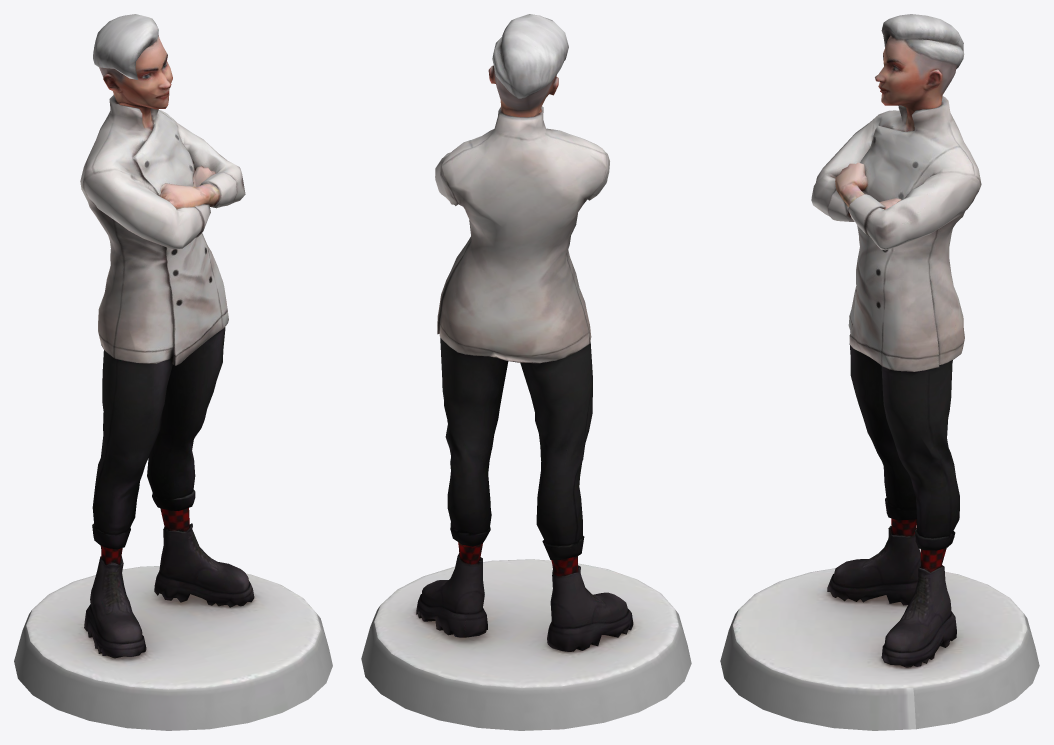
File: pearl_alt.obj
3 renders of one model, left to right at view 1: azimuth 30°, elevation 25°; view 2: azimuth 150°, elevation 25°; view 3: azimuth 270°, elevation 25°, orthographic. The views are drawn at different scales.
Parts seen in each view (by area): view 1: whiteAlt_0; view 2: whiteAlt_0; view 3: whiteAlt_0.
Part boxes in pixels (x1,y1,x2,y2): whiteAlt_0: (14, 14, 332, 730); whiteAlt_0: (361, 14, 691, 730); whiteAlt_0: (720, 14, 1039, 730).
Size of the model in its own units: 0.796 by 1.75 by 0.796.
